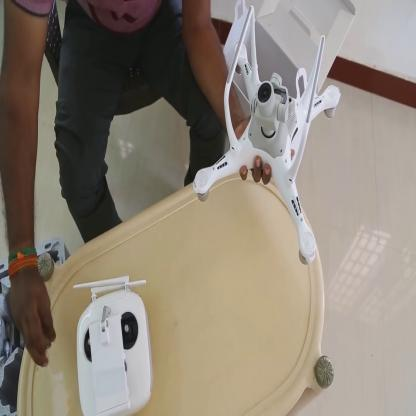drone: (192, 41, 342, 268)
